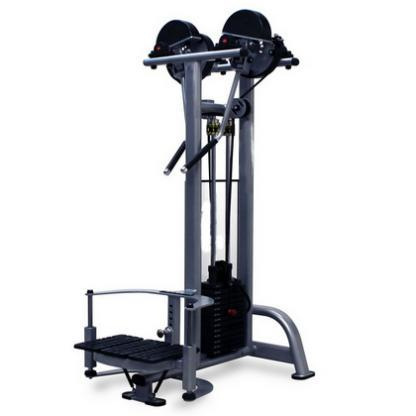lateral raises machine: (72, 10, 316, 408)
